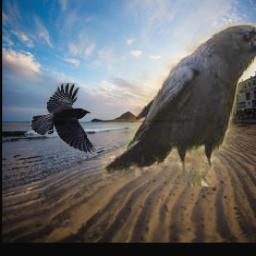Crow: (103, 23, 256, 187), (31, 83, 105, 153)
